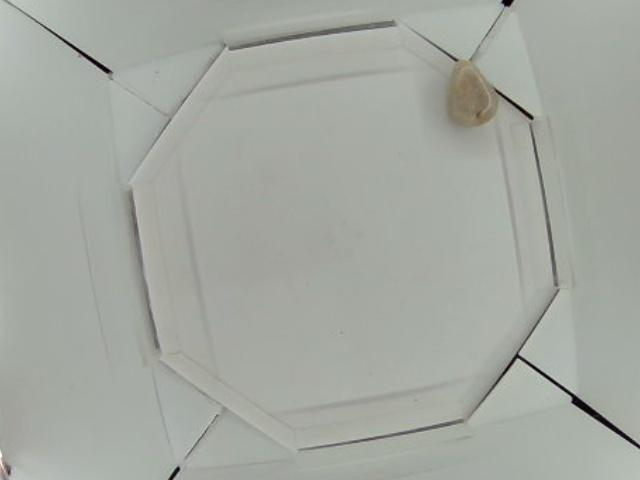Pebble: (447, 56, 498, 129)
